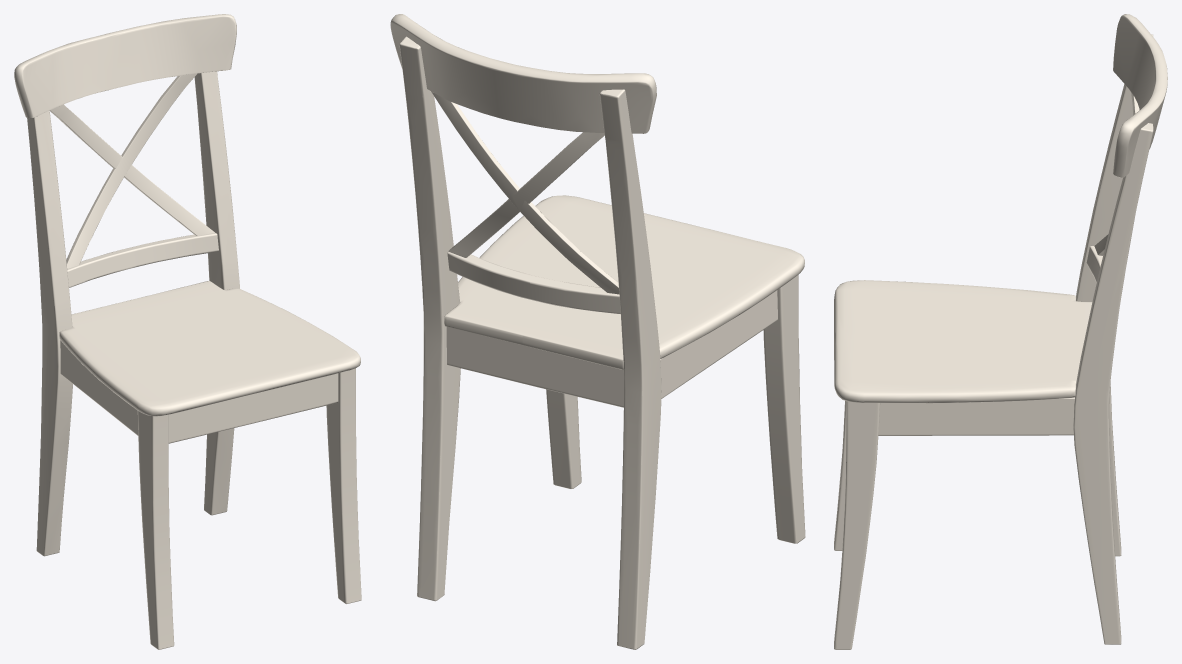
3 renders of one model, left to right at view 1: azimuth 30°, elevation 25°; view 2: azimuth 150°, elevation 25°; view 3: azimuth 270°, elevation 25°, orthographic. The views are drawn at different scales.
Visible parts, largest first — view 1: model; view 2: model; view 3: model.
Part boxes in pixels (x1=…): model: x1=14, y1=14, x2=361, y2=649; model: x1=390, y1=14, x2=805, y2=649; model: x1=834, y1=14, x2=1167, y2=649.
Bounding box in the file's own units: 0.4301 × 0.9077 × 0.5206.
Materials: 1 (1 with a texture image).
